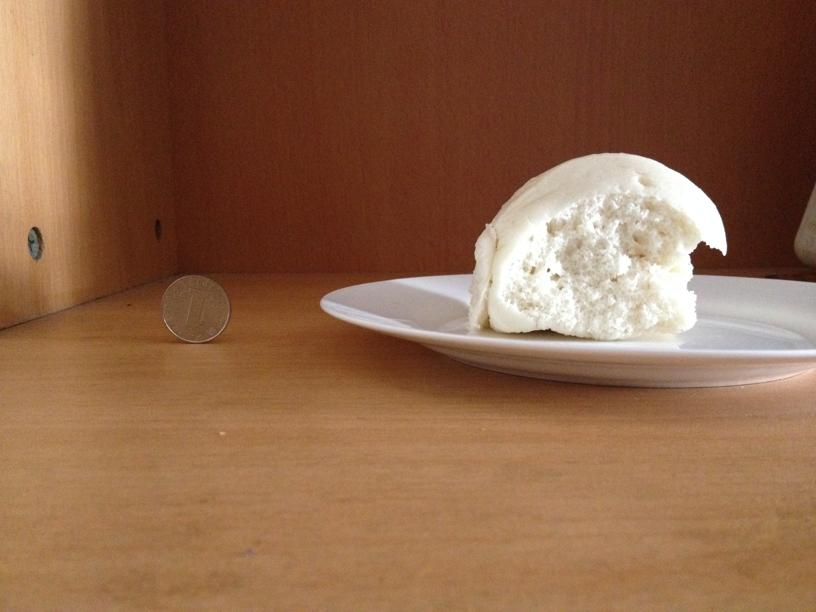bun: (463, 152, 726, 340)
coin: (160, 274, 232, 345)
